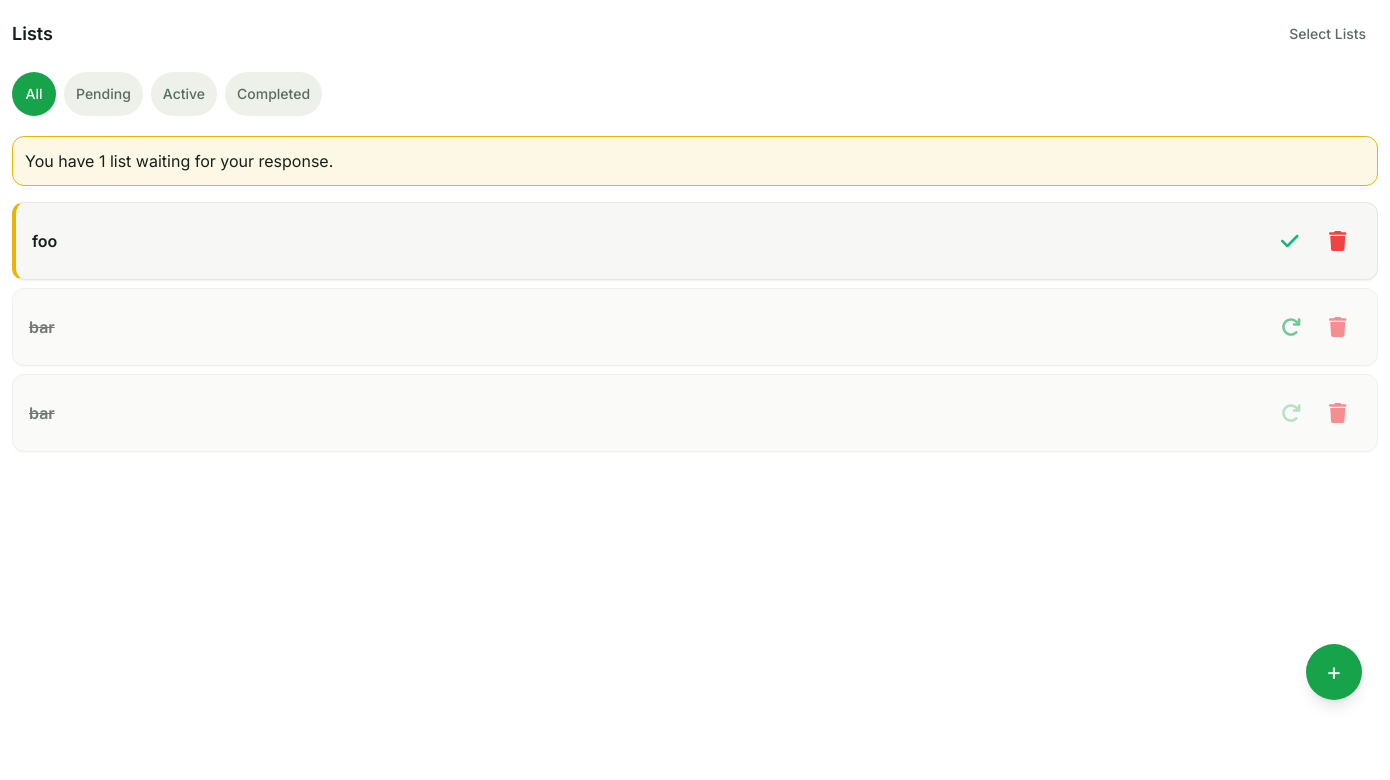
Test: ListsContainer › shows empty state when active filter has no lists
Click the button with test id "filter-active": (184, 94) [151,72,217,116]
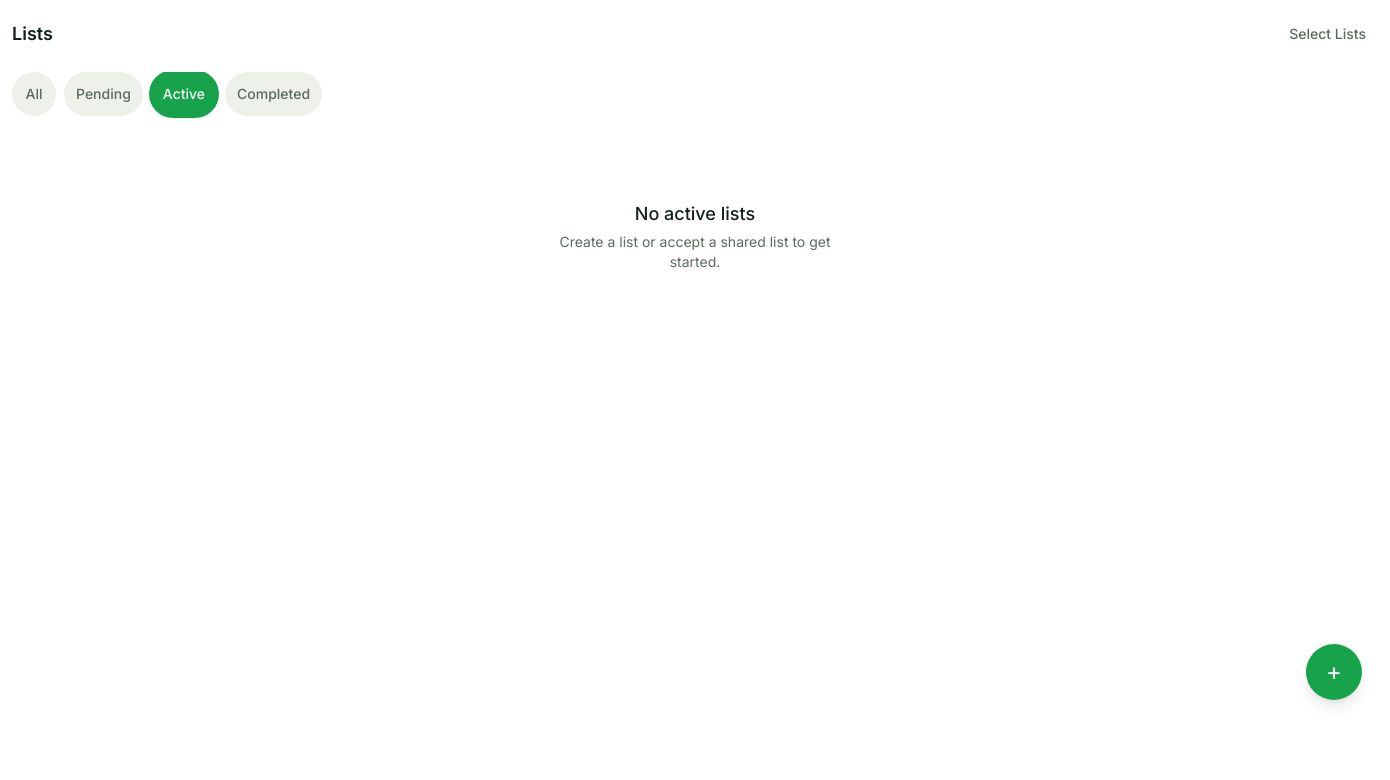
Now the element with test id "empty-state" is shown, box [560,203,830,270]
Now the button with test id "list-id-pending" is gone
